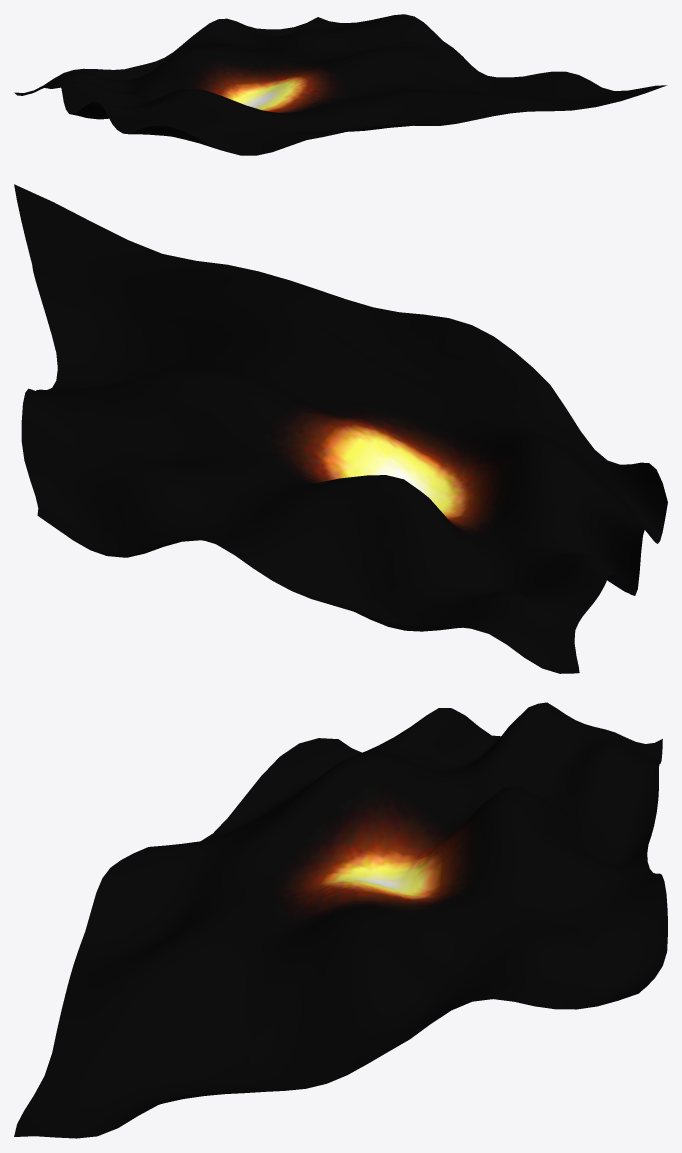
The picture shows the model from 3 angles, top to bottom: view 1: azimuth 30°, elevation 25°; view 2: azimuth 150°, elevation 25°; view 3: azimuth 270°, elevation 25°; orthographic projection. The views are drawn at different scales.
Size of the model in its own units: 2.2 by 0.2071 by 1.4.
1 material, 1 textured.
